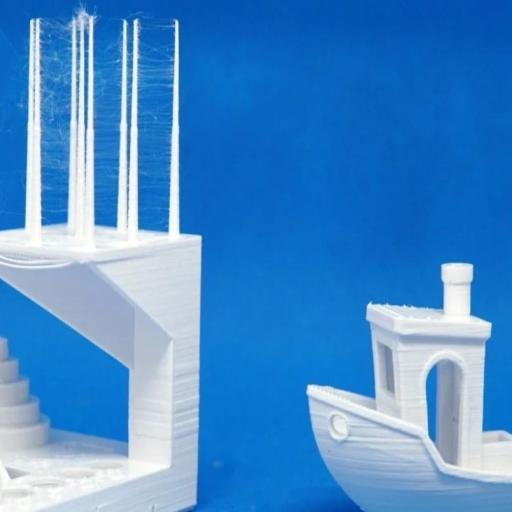stringing: (36, 22, 68, 180), (135, 50, 173, 183)
